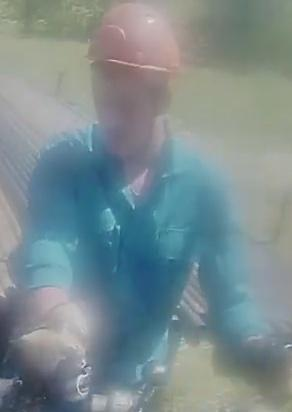gloves: (8, 300, 94, 395)
helmet: (85, 3, 182, 74)
vest: (27, 125, 238, 384)
